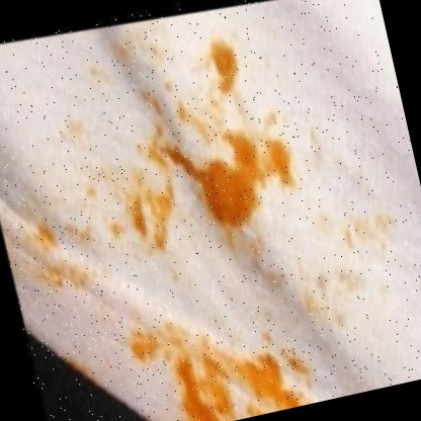kimchi: (23, 207, 135, 302), (165, 133, 270, 232), (222, 213, 293, 310), (115, 174, 182, 261), (138, 316, 231, 377), (96, 26, 176, 94), (66, 119, 119, 216), (165, 78, 227, 144), (240, 349, 298, 417), (250, 131, 305, 196), (206, 34, 255, 95), (340, 218, 396, 263), (174, 367, 220, 421), (301, 280, 351, 327), (212, 362, 243, 421), (139, 81, 168, 120)
